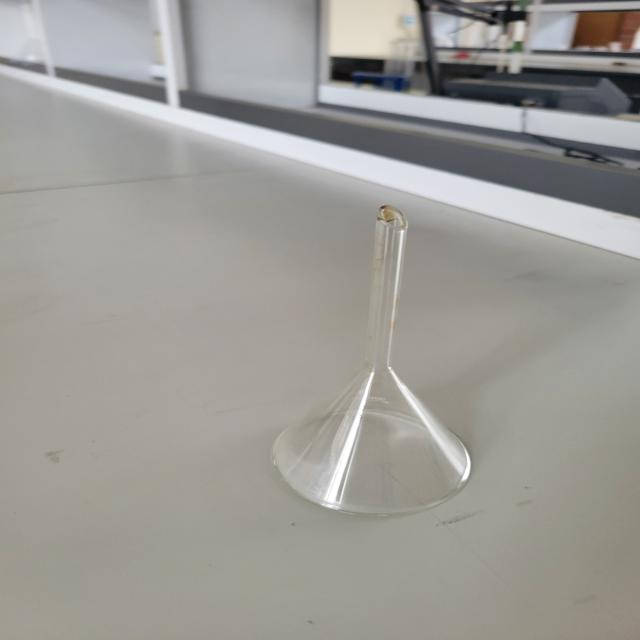Funnel: (242, 173, 504, 552)
